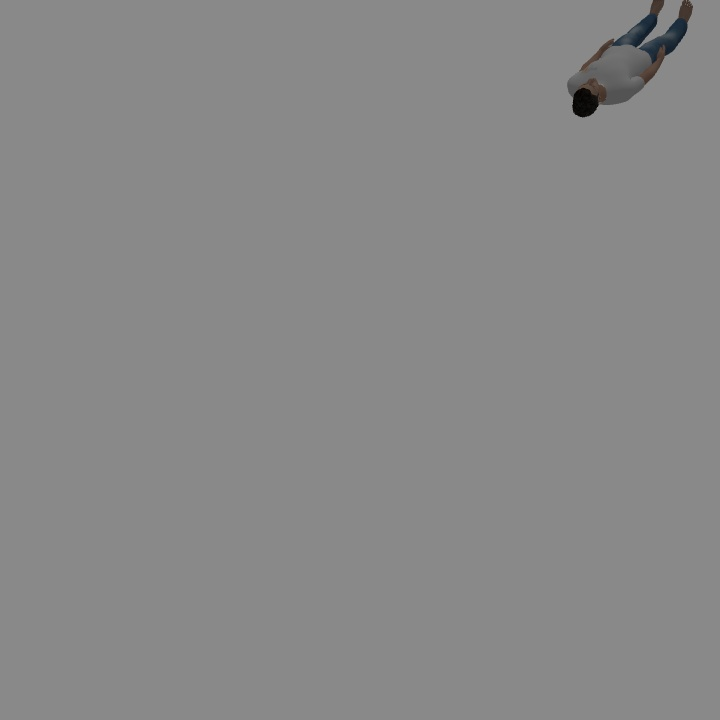victim: (568, 1, 691, 115)
